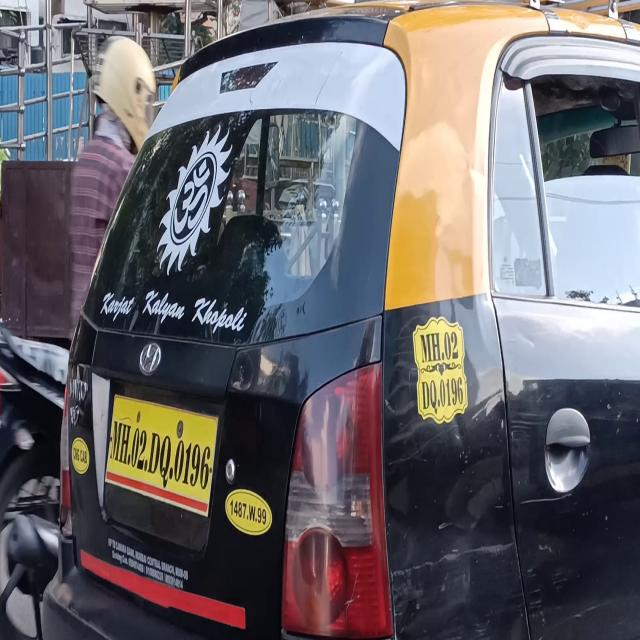Plate: (104, 394, 219, 518)
